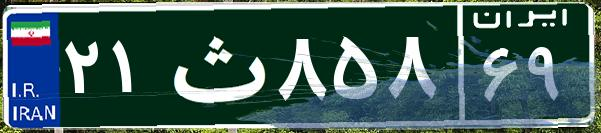1: (110, 28, 158, 105)
2: (57, 26, 110, 107)
5: (330, 28, 385, 110)
6: (475, 38, 525, 113)
8: (385, 28, 445, 110), (273, 28, 330, 110)
9: (525, 38, 570, 115)
ث: (158, 15, 273, 115)
